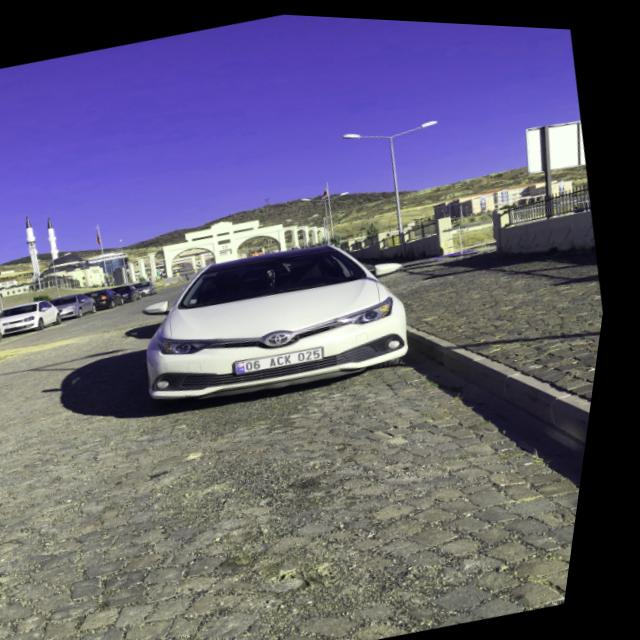license_plate: (242, 337, 335, 375)
